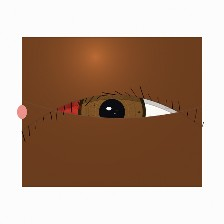hemorrhage_spot: (38, 82, 112, 140)
